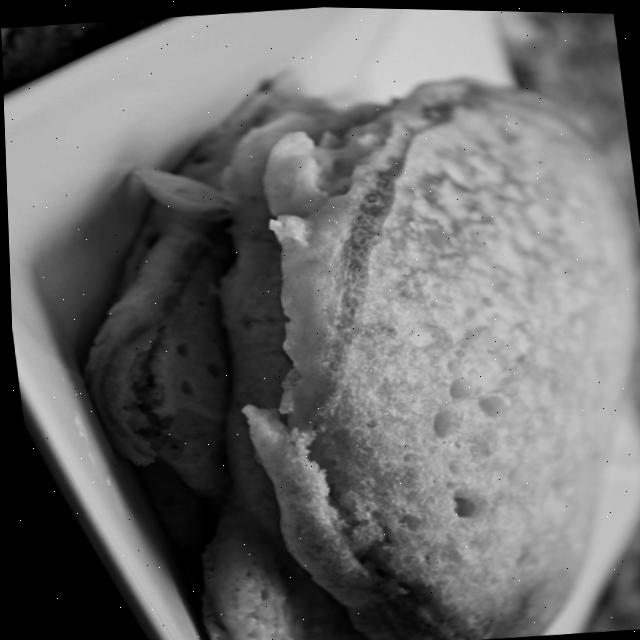蛋糕甜品: (2, 5, 640, 640)
